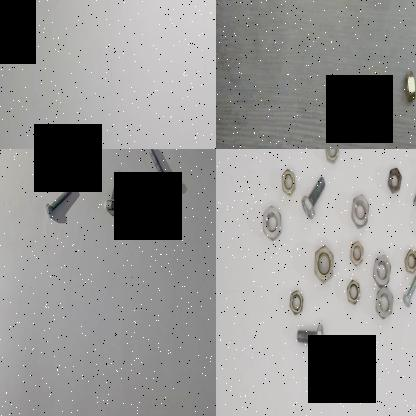Bolts: (101, 168, 129, 221), (299, 174, 326, 222), (146, 149, 174, 192), (294, 321, 324, 355), (401, 261, 416, 309), (411, 154, 416, 211)
NUTS: (312, 240, 334, 284), (260, 202, 281, 242), (372, 252, 394, 286), (372, 286, 395, 318), (350, 191, 368, 227), (400, 64, 416, 102), (344, 276, 361, 310), (278, 167, 298, 195), (386, 164, 402, 198), (288, 288, 303, 318), (348, 238, 364, 266), (403, 246, 416, 274), (321, 149, 342, 162)
